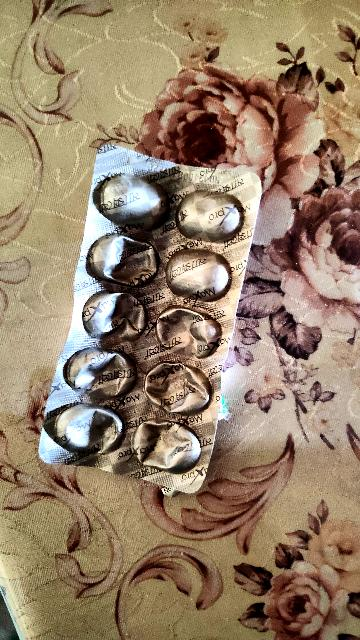medicine: (34, 130, 273, 503)
